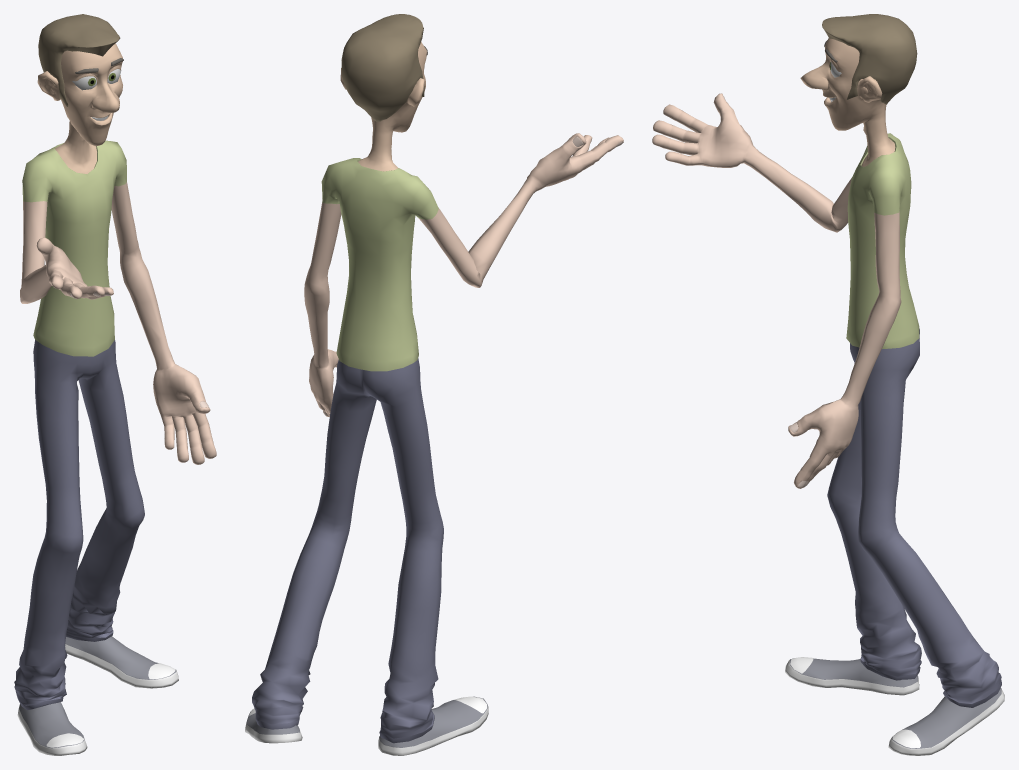
Rendered from friend_goodAnswer.fbx.
3 views of the same model, side by side, from view 1: azimuth 30°, elevation 25°; view 2: azimuth 150°, elevation 25°; view 3: azimuth 270°, elevation 25° (orthographic). The views are drawn at different scales.
Visible parts, largest first — view 1: eyeBall1Lf; view 2: eyeBall1Lf; view 3: eyeBall1Lf.
Boxes of the visible parts, x1,y1,x2,y2 form: eyeBall1Lf: [14, 14, 216, 755]; eyeBall1Lf: [245, 14, 623, 755]; eyeBall1Lf: [652, 14, 1004, 755].
Size of the model in its own units: 3.23 by 8.75 by 4.09.
